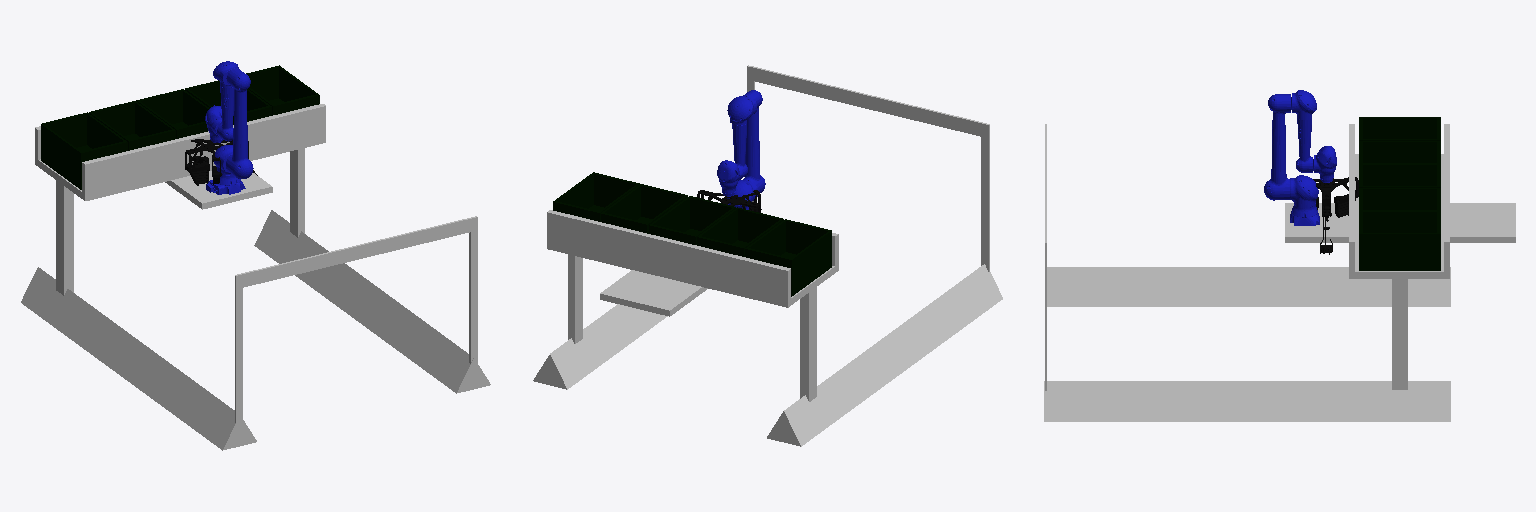
The robot description file, URDF, robot "test_stand":
<?xml version="1.0" ?>
<!-- =================================================================================== -->
<!-- |    This document was autogenerated by xacro from [local-path]/GEM/gem_ws/src/model_description/test_stand/urdf/test_stand.xacro | -->
<!-- |    EDITING THIS FILE BY HAND IS NOT RECOMMENDED                                 | -->
<!-- =================================================================================== -->
<robot name="test_stand" xmlns:controller="http://playerstage.sourceforge.net/gazebo/xmlschema/#controller" xmlns:interface="http://playerstage.sourceforge.net/gazebo/xmlschema/#interface" xmlns:sensor="http://playerstage.sourceforge.net/gazebo/xmlschema/#sensor">
    <!-- Joint controller -->
    <gazebo>
        <plugin filename="libgazebo_ros_control.so" name="gazebo_ros_control">
            <robotNamespace>/</robotNamespace>
        </plugin>
    </gazebo>
    <!-- link list -->
    <link name="test_stand_link">
        <visual>
            <geometry>
                <mesh filename="package://test_stand/meshes/test_stand.dae" />
            </geometry>
        </visual>
        <collision>
            <geometry>
                <mesh filename="package://test_stand/meshes/test_stand.dae" />
            </geometry>
        </collision>
        <inertial>
            <mass value="100" />
            <origin rpy="0 0 0" xyz="0 0 0" />
            <inertia ixx="1.0" ixy="0.0" ixz="0.0" iyy="1.0" iyz="0.0" izz="1.0" />
        </inertial>
    </link>
    <link name="robot_base_link">
        <visual>
            <geometry>
                <mesh filename="package://test_stand/meshes/robot_base.dae" />
            </geometry>
        </visual>
        <collision>
            <geometry>
                <mesh filename="package://test_stand/meshes/robot_base.dae" />
            </geometry>
        </collision>
        <inertial>
            <mass value="1" />
            <origin rpy="0 0 0" xyz="0 0 0" />
            <inertia ixx="1.0" ixy="0.0" ixz="0.0" iyy="1.0" iyz="0.0" izz="1.0" />
        </inertial>
    </link>
    <!-- end of link list -->
    <!-- joint list -->
    <joint name="robot_base_joint" type="prismatic">
        <parent link="test_stand_link" />
        <child link="robot_base_link" />
        <origin rpy="0 0 0" xyz="0 0.61995 1.0791" />
        <axis xyz="1 0 0" />
        <limit effort="1000" lower="-0.733" upper="0.733" velocity="20" />
        <dynamics damping="1" friction="10" />
    </joint>
    <!-- end of joint list -->
    <transmission name="robot_base_joint_trans">
        <type>transmission_interface/SimpleTransmission</type>
        <joint name="robot_base_joint">
            <hardwareInterface>hardware_interface/EffortJointInterface</hardwareInterface>
        </joint>
        <actuator name="robot_base_joint_motor">
            <mechanicalReduction>10</mechanicalReduction>
            <hardwareInterface>hardware_interface/EffortJointInterface</hardwareInterface>
        </actuator>
    </transmission>
    <!-- end of joint controller list -->
    <link name="world" />
    <joint name="stand_fixed" type="fixed">
        <parent link="world" />
        <child link="test_stand_link" />
    </joint>
    <!-- link list -->
    <link name="base_link">
        <visual>
            <geometry>
                <mesh filename="package://motoman_hc10_support/meshes/hc10/visual/base_link.dae" />
            </geometry>
            <material name="">
                <color rgba="0.12941176470588237 0.14901960784313725 0.7490196078431373 1.0" />
            </material>
        </visual>
        <collision>
            <geometry>
                <mesh filename="package://motoman_hc10_support/meshes/hc10/collision/base_link.stl" />
            </geometry>
        </collision>
        <inertial>
            <mass value="8" />
            <origin rpy="0 0 0" xyz="0 0 0" />
            <inertia ixx="1.0" ixy="0.0" ixz="0.0" iyy="1.0" iyz="0.0" izz="1.0" />
        </inertial>
    </link>
    <link name="link_1_s">
        <visual>
            <geometry>
                <mesh filename="package://motoman_hc10_support/meshes/hc10/visual/link_1_s.dae" />
            </geometry>
            <material name="">
                <color rgba="0.12941176470588237 0.14901960784313725 0.7490196078431373 1.0" />
            </material>
        </visual>
        <collision>
            <geometry>
                <mesh filename="package://motoman_hc10_support/meshes/hc10/collision/link_1_s.stl" />
            </geometry>
        </collision>
        <inertial>
            <mass value="14" />
            <origin rpy="0 0 0" xyz="0 0 0" />
            <inertia ixx="1.0" ixy="0.0" ixz="0.0" iyy="1.0" iyz="0.0" izz="1.0" />
        </inertial>
    </link>
    <link name="link_2_l">
        <visual>
            <geometry>
                <mesh filename="package://motoman_hc10_support/meshes/hc10/visual/link_2_l.dae" />
            </geometry>
            <material name="">
                <color rgba="0.12941176470588237 0.14901960784313725 0.7490196078431373 1.0" />
            </material>
        </visual>
        <collision>
            <geometry>
                <mesh filename="package://motoman_hc10_support/meshes/hc10/collision/link_2_l.stl" />
            </geometry>
        </collision>
        <inertial>
            <mass value="15" />
            <origin rpy="0 0 0" xyz="0 0 0" />
            <inertia ixx="1.0" ixy="0.0" ixz="0.0" iyy="1.0" iyz="0.0" izz="1.0" />
        </inertial>
    </link>
    <link name="link_3_u">
        <visual>
            <geometry>
                <mesh filename="package://motoman_hc10_support/meshes/hc10/visual/link_3_u.dae" />
            </geometry>
            <material name="">
                <color rgba="0.12941176470588237 0.14901960784313725 0.7490196078431373 1.0" />
            </material>
        </visual>
        <collision>
            <geometry>
                <mesh filename="package://motoman_hc10_support/meshes/hc10/collision/link_3_u.stl" />
            </geometry>
        </collision>
        <inertial>
            <mass value="8" />
            <origin rpy="0 0 0" xyz="0 0 0" />
            <inertia ixx="1.0" ixy="0.0" ixz="0.0" iyy="1.0" iyz="0.0" izz="1.0" />
        </inertial>
    </link>
    <link name="link_4_r">
        <visual>
            <geometry>
                <mesh filename="package://motoman_hc10_support/meshes/hc10/visual/link_4_r.dae" />
            </geometry>
            <material name="">
                <color rgba="0.12941176470588237 0.14901960784313725 0.7490196078431373 1.0" />
            </material>
        </visual>
        <collision>
            <geometry>
                <mesh filename="package://motoman_hc10_support/meshes/hc10/collision/link_4_r.stl" />
            </geometry>
        </collision>
        <inertial>
            <mass value="5" />
            <origin rpy="0 0 0" xyz="0 0 0" />
            <inertia ixx="1.0" ixy="0.0" ixz="0.0" iyy="1.0" iyz="0.0" izz="1.0" />
        </inertial>
    </link>
    <link name="link_5_b">
        <visual>
            <geometry>
                <mesh filename="package://motoman_hc10_support/meshes/hc10/visual/link_5_b.dae" />
            </geometry>
            <material name="">
                <color rgba="0.12941176470588237 0.14901960784313725 0.7490196078431373 1.0" />
            </material>
        </visual>
        <collision>
            <geometry>
                <mesh filename="package://motoman_hc10_support/meshes/hc10/collision/link_5_b.stl" />
            </geometry>
        </collision>
        <inertial>
            <mass value="6" />
            <origin rpy="0 0 0" xyz="0 0 0" />
            <inertia ixx="1.0" ixy="0.0" ixz="0.0" iyy="1.0" iyz="0.0" izz="1.0" />
        </inertial>
    </link>
    <link name="link_6_t">
        <visual>
            <geometry>
                <mesh filename="package://motoman_hc10_support/meshes/hc10dt/visual/link_6_t.dae" />
            </geometry>
            <material name="">
                <color rgba="0.12941176470588237 0.14901960784313725 0.7490196078431373 1.0" />
            </material>
        </visual>
        <collision>
            <geometry>
                <mesh filename="package://motoman_hc10_support/meshes/hc10dt/collision/link_6_t.stl" />
            </geometry>
        </collision>
        <inertial>
            <mass value="2" />
            <origin rpy="0 0 0" xyz="0 0 0" />
            <inertia ixx="1.0" ixy="0.0" ixz="0.0" iyy="1.0" iyz="0.0" izz="1.0" />
        </inertial>
    </link>
    <!-- end of link list -->
    <!-- joint list -->
    <joint name="joint_1_s" type="revolute">
        <parent link="base_link" />
        <child link="link_1_s" />
        <origin rpy="0 0 0" xyz="0 0 0.275" />
        <axis xyz="0 0 1" />
        <limit effort="10000000" lower="-3.141592653589793" upper="3.141592653589793" velocity="2.2689280275926285" />
        <dynamics damping="0" friction="0" />
    </joint>
    <joint name="joint_2_l" type="revolute">
        <parent link="link_1_s" />
        <child link="link_2_l" />
        <origin rpy="0 0 0" xyz="0 0 0" />
        <axis xyz="0 1 0" />
        <limit effort="10000000" lower="-3.141592653589793" upper="3.141592653589793" velocity="2.2689280275926285" />
        <dynamics damping="1" friction="10" />
    </joint>
    <joint name="joint_3_u" type="revolute">
        <parent link="link_2_l" />
        <child link="link_3_u" />
        <origin rpy="0 0 0" xyz="0 0 0.700" />
        <axis xyz="0 -1 0" />
        <limit effort="10000000" lower="-3.141592653589793" upper="3.141592653589793" velocity="3.141592653589793" />
        <dynamics damping="1" friction="10" />
    </joint>
    <joint name="joint_4_r" type="revolute">
        <parent link="link_3_u" />
        <child link="link_4_r" />
        <origin rpy="0 0 0" xyz="0 0 -0.500" />
        <axis xyz="0 0 1" />
        <limit effort="10000000" lower="-3.141592653589793" upper="3.141592653589793" velocity="3.141592653589793" />
        <dynamics damping="1" friction="10" />
    </joint>
    <joint name="joint_5_b" type="revolute">
        <parent link="link_4_r" />
        <child link="link_5_b" />
        <origin rpy="0 0 0" xyz="0 0.162 0" />
        <axis xyz="0 -1 0" />
        <limit effort="10000000" lower="-3.141592653589793" upper="3.141592653589793" velocity="4.363323129985824" />
        <dynamics damping="1" friction="10" />
    </joint>
    <joint name="joint_6_t" type="revolute">
        <parent link="link_5_b" />
        <child link="link_6_t" />
        <origin rpy="0 0 0" xyz="0 0 0" />
        <axis xyz="0 0 1" />
        <limit effort="10000000" lower="-3.141592653589793" upper="3.141592653589793" velocity="4.363323129985824" />
        <dynamics damping="1" friction="10" />
    </joint>
    <!-- end of joint list -->
    <transmission name="joint_1_s_trans">
        <type>transmission_interface/SimpleTransmission</type>
        <joint name="joint_1_s">
            <hardwareInterface>hardware_interface/EffortJointInterface</hardwareInterface>
        </joint>
        <actuator name="joint_1_s_motor">
            <mechanicalReduction>10</mechanicalReduction>
            <hardwareInterface>hardware_interface/EffortJointInterface</hardwareInterface>
        </actuator>
    </transmission>
    <transmission name="joint_2_l_trans">
        <type>transmission_interface/SimpleTransmission</type>
        <joint name="joint_2_l">
            <hardwareInterface>hardware_interface/EffortJointInterface</hardwareInterface>
        </joint>
        <actuator name="joint_2_l_motor">
            <mechanicalReduction>10</mechanicalReduction>
            <hardwareInterface>hardware_interface/EffortJointInterface</hardwareInterface>
        </actuator>
    </transmission>
    <transmission name="joint_3_u_trans">
        <type>transmission_interface/SimpleTransmission</type>
        <joint name="joint_3_u">
            <hardwareInterface>hardware_interface/EffortJointInterface</hardwareInterface>
        </joint>
        <actuator name="joint_3_u_motor">
            <mechanicalReduction>10</mechanicalReduction>
            <hardwareInterface>hardware_interface/EffortJointInterface</hardwareInterface>
        </actuator>
    </transmission>
    <transmission name="joint_4_r_trans">
        <type>transmission_interface/SimpleTransmission</type>
        <joint name="joint_4_r">
            <hardwareInterface>hardware_interface/EffortJointInterface</hardwareInterface>
        </joint>
        <actuator name="joint_4_r_motor">
            <mechanicalReduction>10</mechanicalReduction>
            <hardwareInterface>hardware_interface/EffortJointInterface</hardwareInterface>
        </actuator>
    </transmission>
    <transmission name="joint_5_b_trans">
        <type>transmission_interface/SimpleTransmission</type>
        <joint name="joint_5_b">
            <hardwareInterface>hardware_interface/EffortJointInterface</hardwareInterface>
        </joint>
        <actuator name="joint_5_b_motor">
            <mechanicalReduction>10</mechanicalReduction>
            <hardwareInterface>hardware_interface/EffortJointInterface</hardwareInterface>
        </actuator>
    </transmission>
    <transmission name="joint_6_t_trans">
        <type>transmission_interface/SimpleTransmission</type>
        <joint name="joint_6_t">
            <hardwareInterface>hardware_interface/EffortJointInterface</hardwareInterface>
        </joint>
        <actuator name="joint_6_t_motor">
            <mechanicalReduction>10</mechanicalReduction>
            <hardwareInterface>hardware_interface/EffortJointInterface</hardwareInterface>
        </actuator>
    </transmission>
    <!-- end of joint controller list -->
    <!-- ROS base_link to Robot Manufacturer World Coordinates transform -->
    <link name="base" />
    <joint name="base_link-base" type="fixed">
        <origin rpy="0 0 0" xyz="0 0 0.275" />
        <parent link="base_link" />
        <child link="base" />
    </joint>
    <gazebo reference="base_link">
        <gravity>0</gravity>
    </gazebo>
    <gazebo reference="link_1_s">
        <gravity>0</gravity>
    </gazebo>
    <gazebo reference="link_2_l">
        <gravity>0</gravity>
    </gazebo>
    <gazebo reference="{prefix}link_3_u">
        <gravity>0</gravity>
    </gazebo>
    <gazebo reference="{prefix}link_4_r">
        <gravity>0</gravity>
    </gazebo>
    <gazebo reference="link_5_b">
        <gravity>0</gravity>
    </gazebo>
    <gazebo reference="link_6_t">
        <gravity>0</gravity>
    </gazebo>
    <joint name="robot_fixed" type="fixed">
        <parent link="robot_base_link" />
        <child link="base_link" />
        <origin rpy="0 0 0" xyz="0 -0.7 0" />
    </joint>
    <!-- link list -->
    <link name="frame_top_link">
        <visual>
            <geometry>
                <mesh filename="package://gripper/meshes/frame_top.dae" />
            </geometry>
        </visual>
        <collision>
            <geometry>
                <mesh filename="package://gripper/meshes/frame_top.dae" />
            </geometry>
        </collision>
        <inertial>
            <mass value="1" />
            <origin rpy="0 0 0" xyz="0 0 0" />
            <inertia ixx="1.0" ixy="0.0" ixz="0.0" iyy="1.0" iyz="0.0" izz="1.0" />
        </inertial>
    </link>
    <link name="finger_1_link">
        <visual>
            <geometry>
                <mesh filename="package://gripper/meshes/finger.dae" />
            </geometry>
        </visual>
        <collision>
            <geometry>
                <mesh filename="package://gripper/meshes/finger.dae" />
            </geometry>
        </collision>
        <inertial>
            <mass value="1" />
            <origin rpy="0 0 0" xyz="0 0 0" />
            <inertia ixx="1.0" ixy="0.0" ixz="0.0" iyy="1.0" iyz="0.0" izz="1.0" />
        </inertial>
    </link>
    <link name="finger_2_link">
        <visual>
            <geometry>
                <mesh filename="package://gripper/meshes/finger.dae" />
            </geometry>
        </visual>
        <collision>
            <geometry>
                <mesh filename="package://gripper/meshes/finger.dae" />
            </geometry>
        </collision>
        <inertial>
            <mass value="1" />
            <origin rpy="0 0 0" xyz="0 0 0" />
            <inertia ixx="1.0" ixy="0.0" ixz="0.0" iyy="1.0" iyz="0.0" izz="1.0" />
        </inertial>
    </link>
    <link name="finger_3_link">
        <visual>
            <geometry>
                <mesh filename="package://gripper/meshes/finger.dae" />
            </geometry>
        </visual>
        <collision>
            <geometry>
                <mesh filename="package://gripper/meshes/finger.dae" />
            </geometry>
        </collision>
        <inertial>
            <mass value="1" />
            <origin rpy="0 0 0" xyz="0 0 0" />
            <inertia ixx="1.0" ixy="0.0" ixz="0.0" iyy="1.0" iyz="0.0" izz="1.0" />
        </inertial>
    </link>
    <link name="knife_link">
        <visual>
            <geometry>
                <mesh filename="package://gripper/meshes/knife.dae" />
            </geometry>
        </visual>
        <collision>
            <geometry>
                <mesh filename="package://gripper/meshes/knife.dae" />
            </geometry>
        </collision>
        <inertial>
            <mass value="1" />
            <origin rpy="0 0 0" xyz="0 0 0" />
            <inertia ixx="1.0" ixy="0.0" ixz="0.0" iyy="1.0" iyz="0.0" izz="1.0" />
        </inertial>
    </link>
    <!-- <link name="${prefix}frame_bot_link">
      <visual>
        <geometry>
          <mesh filename="package://gripper/meshes/frame_bot.dae"/>
        </geometry>
      </visual>
      <collision>
        <geometry>
          <mesh filename="package://gripper/meshes/frame_bot.dae"/>
        </geometry>
      </collision>
      <inertial>
        <mass value="1" />
        <origin xyz="0 0 0" rpy="0 0 0"/>
        <inertia
        ixx="1.0" ixy="0.0" ixz="0.0"
        iyy="1.0" iyz="0.0"
        izz="1.0"/>
      </inertial>
    </link> -->
    <!-- end of link list -->
    <!-- joint list -->
    <joint name="finger_1_top_joint" type="revolute">
        <parent link="frame_top_link" />
        <child link="finger_1_link" />
        <origin rpy="-0.09512044423369097 0.0 -2.6354471705114375" xyz="-0.12521 0.21465 -0.13288" />
        <axis xyz="1 0 0" />
        <limit effort="10000" lower="-0.5235987755982988" upper="0.17453292519943295" velocity="20" />
        <dynamics damping="1" friction="10" />
    </joint>
    <joint name="finger_2_top_joint" type="revolute">
        <parent link="frame_top_link" />
        <child link="finger_2_link" />
        <origin rpy="-0.09512044423369097 0.0 -1.5707963267948966" xyz="-0.24208 0 -0.13288" />
        <axis xyz="1 0 0" />
        <limit effort="10000" lower="-0.5235987755982988" upper="0.17453292519943295" velocity="20" />
        <dynamics damping="1" friction="10" />
    </joint>
    <joint name="finger_3_top_joint" type="revolute">
        <parent link="frame_top_link" />
        <child link="finger_3_link" />
        <origin rpy="-0.09512044423369097 0.0 -0.5061454830783556" xyz="-0.12521 -0.21465 -0.13288" />
        <axis xyz="1 0 0" />
        <limit effort="10000" lower="-0.5235987755982988" upper="0.17453292519943295" velocity="20" />
        <dynamics damping="1" friction="10" />
    </joint>
    <joint name="knife_top_joint" type="revolute">
        <parent link="frame_top_link" />
        <child link="knife_link" />
        <origin rpy="0.0 0.0 0.0" xyz="0.24033 0 -0.13496" />
        <axis xyz="0 1 0" />
        <limit effort="10000" lower="-0.17453292519943295" upper="0.4363323129985824" velocity="20" />
        <dynamics damping="1" friction="10" />
    </joint>
    <!-- <joint name="${prefix}bot_top_joint" type="prismatic">
      <parent link="${prefix}frame_top_link"/>
      <child link="${prefix}frame_bot_link"/>
      <origin xyz="0 0 -0.076675" rpy="${radians(0)} ${radians(0)} ${radians(0)}" />
      <axis xyz="0 0 1" />
      <limit lower="0" upper="-0.09" effort="${joint_eff}" velocity="${joint_vel}"/>
      <dynamics damping="${joint_d}" friction="${joint_f}" />
    </joint> -->
    <!-- end of joint list -->
    <transmission name="finger_1_top_joint_trans">
        <type>transmission_interface/SimpleTransmission</type>
        <joint name="finger_1_top_joint">
            <hardwareInterface>hardware_interface/EffortJointInterface</hardwareInterface>
        </joint>
        <actuator name="finger_1_top_joint_motor">
            <mechanicalReduction>10</mechanicalReduction>
            <hardwareInterface>hardware_interface/EffortJointInterface</hardwareInterface>
        </actuator>
    </transmission>
    <transmission name="finger_2_top_joint_trans">
        <type>transmission_interface/SimpleTransmission</type>
        <joint name="finger_2_top_joint">
            <hardwareInterface>hardware_interface/EffortJointInterface</hardwareInterface>
        </joint>
        <actuator name="finger_2_top_joint_motor">
            <mechanicalReduction>10</mechanicalReduction>
            <hardwareInterface>hardware_interface/EffortJointInterface</hardwareInterface>
        </actuator>
    </transmission>
    <transmission name="finger_3_top_joint_trans">
        <type>transmission_interface/SimpleTransmission</type>
        <joint name="finger_3_top_joint">
            <hardwareInterface>hardware_interface/EffortJointInterface</hardwareInterface>
        </joint>
        <actuator name="finger_3_top_joint_motor">
            <mechanicalReduction>10</mechanicalReduction>
            <hardwareInterface>hardware_interface/EffortJointInterface</hardwareInterface>
        </actuator>
    </transmission>
    <transmission name="knife_top_joint_trans">
        <type>transmission_interface/SimpleTransmission</type>
        <joint name="knife_top_joint">
            <hardwareInterface>hardware_interface/EffortJointInterface</hardwareInterface>
        </joint>
        <actuator name="knife_top_joint_motor">
            <mechanicalReduction>10</mechanicalReduction>
            <hardwareInterface>hardware_interface/EffortJointInterface</hardwareInterface>
        </actuator>
    </transmission>
    <!-- end of joint controller list -->
    <gazebo reference="finger_1_link">
        <gravity>0</gravity>
    </gazebo>
    <gazebo reference="finger_2_link">
        <gravity>0</gravity>
    </gazebo>
    <gazebo reference="finger_3_link">
        <gravity>0</gravity>
    </gazebo>
    <gazebo reference="{prefix}knife_link">
        <gravity>0</gravity>
    </gazebo>
    <gazebo reference="{prefix}frame_top_link">
        <gravity>0</gravity>
    </gazebo>
    <joint name="gripper_top_fixed" type="fixed">
        <parent link="link_6_t" />
        <child link="frame_top_link" />
        <origin rpy="0 0 0" xyz="0 0 -0.16" />
    </joint>
</robot>

--- Facts derived from the render (not from the file) ---
Views: 3 orthographic renders of the robot side by side, from view 1: azimuth 30°, elevation 25°; view 2: azimuth 150°, elevation 25°; view 3: azimuth 270°, elevation 25°.
Model test_stand with 16 links and 15 joints (10 revolute, 1 prismatic, 4 fixed), rooted at world, posed every joint at zero.
Links seen in each view (by area): view 1: test_stand_link, link_2_l, robot_base_link, link_4_r, frame_top_link, base_link; view 2: test_stand_link, robot_base_link, link_2_l, link_3_u, link_5_b, frame_top_link, link_4_r; view 3: test_stand_link, robot_base_link, link_2_l, link_1_s, link_4_r, link_5_b, link_3_u, base_link.
Boxes of the visible links, x1,y1,x2,y2 form: test_stand_link: (21,65,490,450); link_2_l: (226,68,253,178); robot_base_link: (165,171,272,209); link_4_r: (217,86,233,141); frame_top_link: (185,139,248,176); base_link: (206,175,245,194); test_stand_link: (533,65,1002,446); robot_base_link: (600,270,707,316); link_2_l: (743,90,765,192); link_3_u: (727,96,756,125); link_5_b: (717,160,742,193); frame_top_link: (697,190,760,212); link_4_r: (732,124,747,179); test_stand_link: (1044,117,1450,421); robot_base_link: (1285,203,1515,242); link_2_l: (1264,94,1290,200); link_1_s: (1290,175,1318,207); link_4_r: (1296,118,1312,172); link_5_b: (1313,146,1336,179); link_3_u: (1291,90,1316,119); base_link: (1290,203,1319,225).
Size in the robot's own frame: 2.3 by 3.47 by 2.14 metres.
14 mesh visuals loaded from 12 distinct referenced files (12 Collada DAE).
